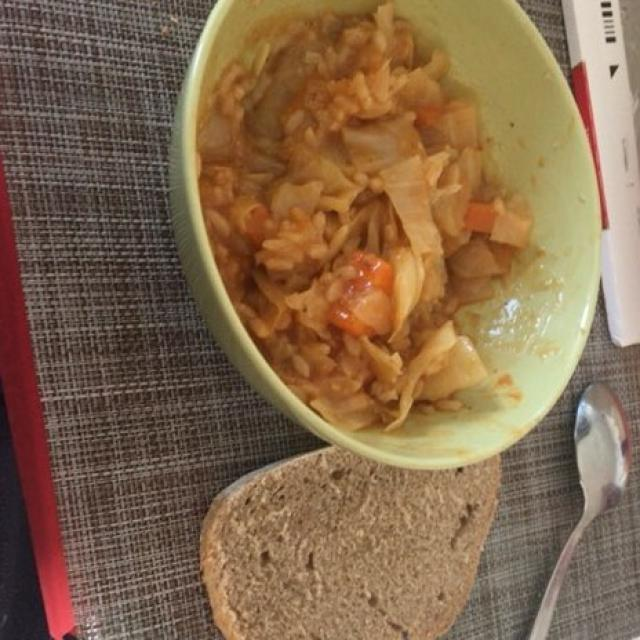bread: (205, 453, 496, 634)
cabbage: (228, 75, 522, 410)
carrot: (316, 253, 417, 347)
rice: (198, 10, 528, 430)
